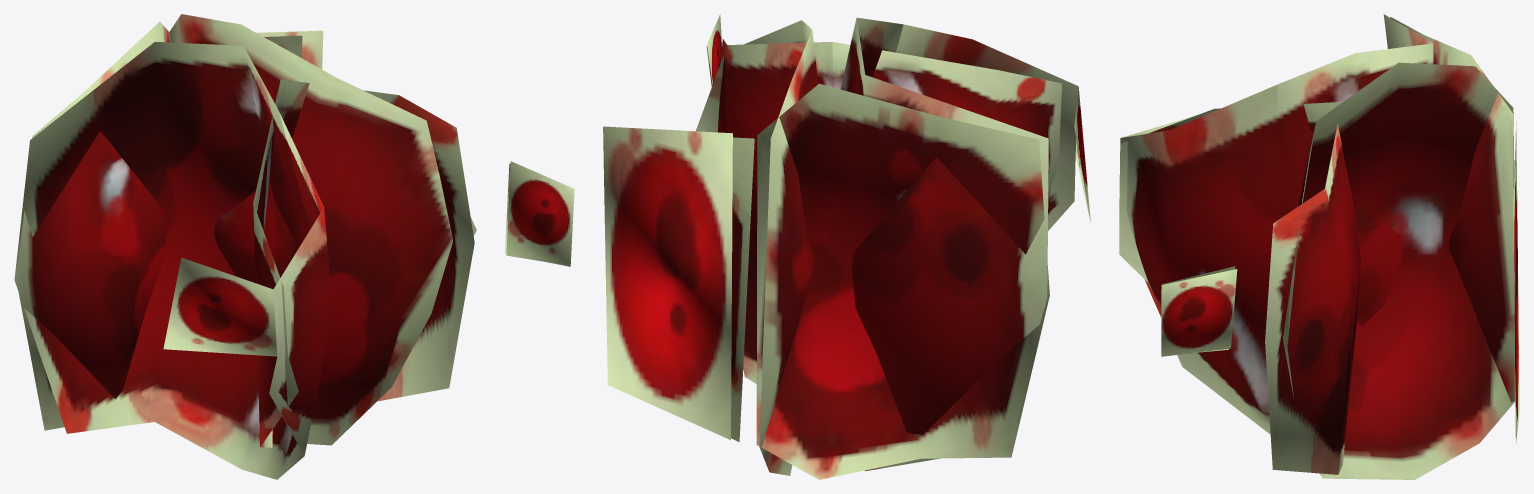
The model's file is Zombie_Broken_Self_Body_d746f6a4__Zombie_Broken_Green_0_bb717ba8_c1f257.obj.
3 renders of one model, left to right at view 1: azimuth 30°, elevation 25°; view 2: azimuth 150°, elevation 25°; view 3: azimuth 270°, elevation 25°, orthographic. The views are drawn at different scales.
Size of the model in its own units: 0.7213 by 0.6704 by 0.5918.
Materials: 1 (1 with a texture image).
